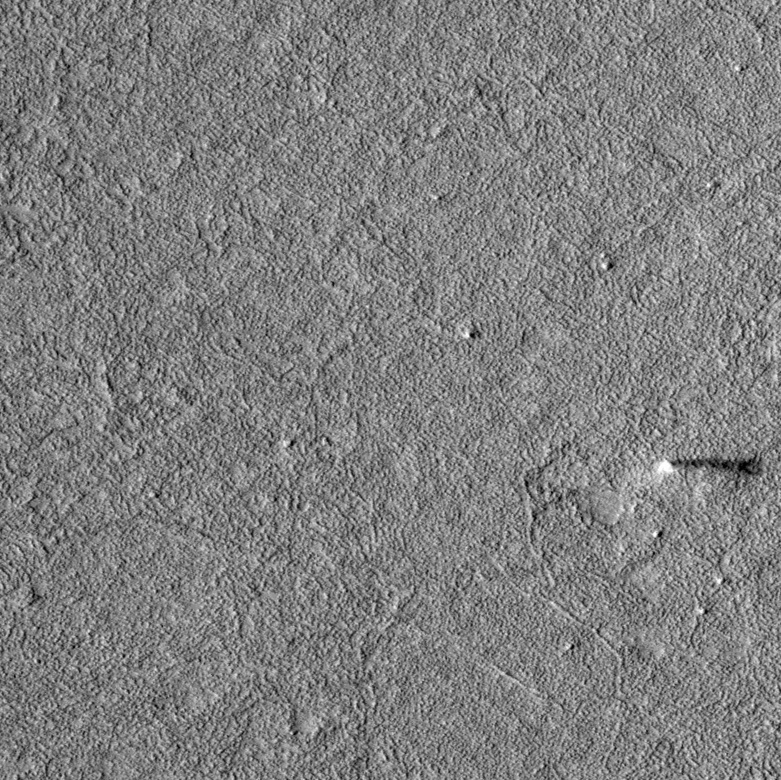dust_devil: (654, 453, 764, 477)
